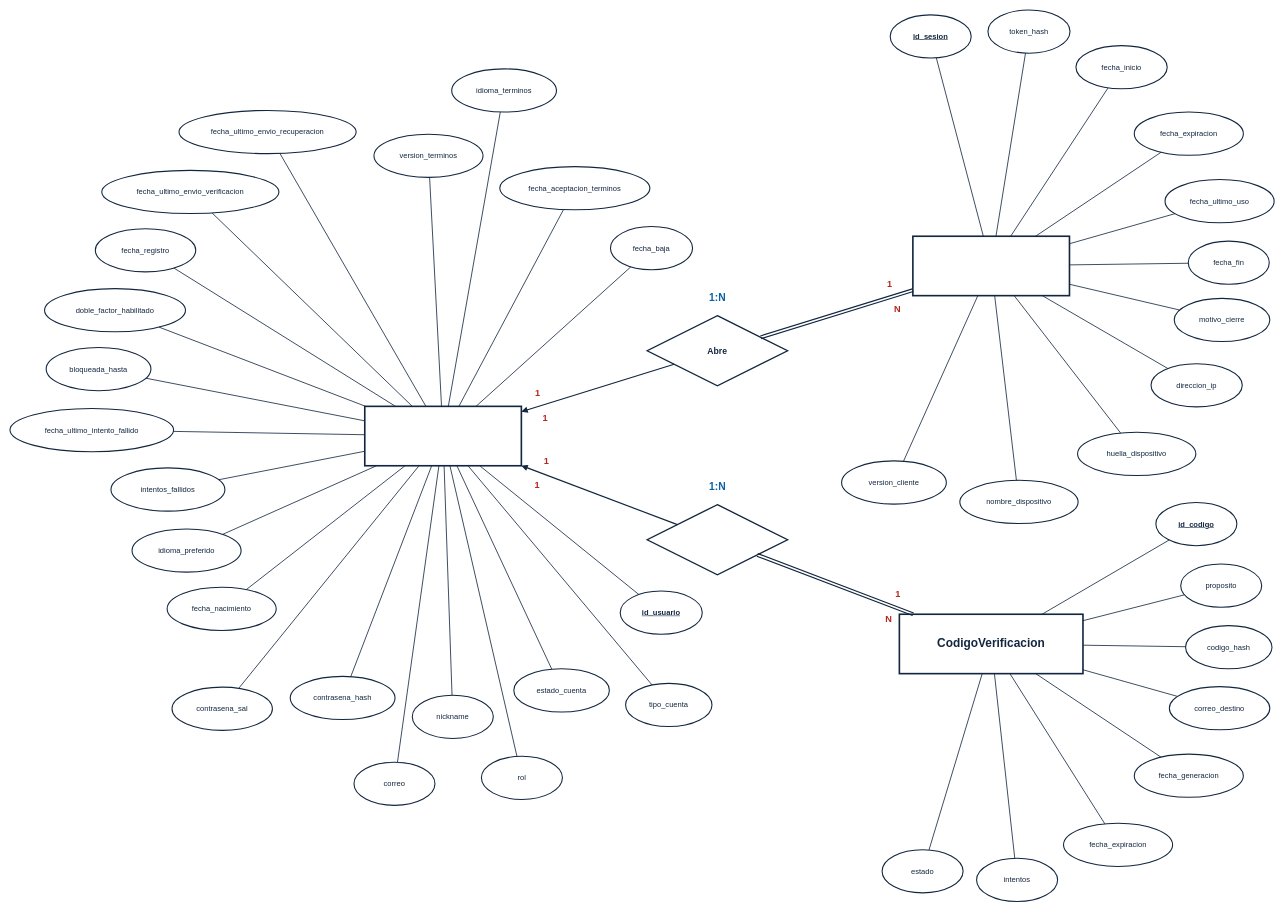
This 1284x911 diagram has some shape labels left out. The centre of each missing label's shape, as x and y in pixels:
Recibe: (717,539)
Sesion: (991,265)
Usuario: (443,435)
